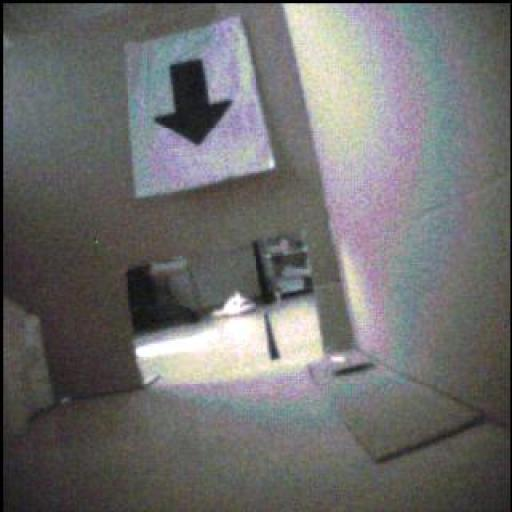arrow: (156, 62, 233, 145)
